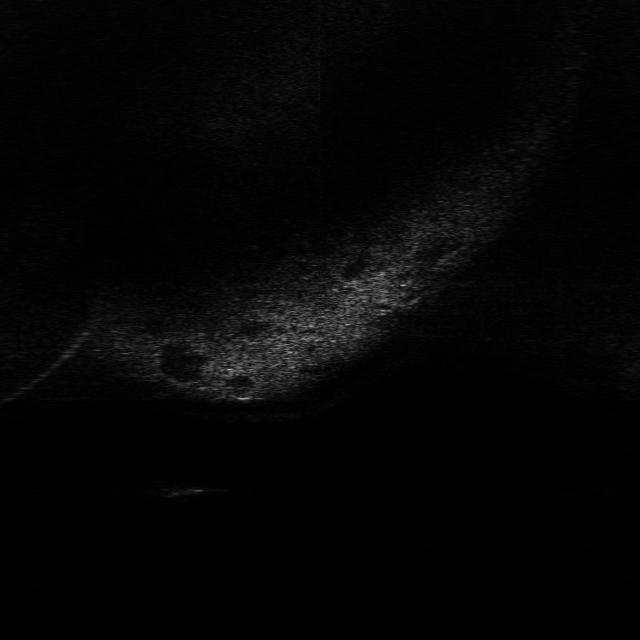cube: (147, 478, 214, 503)
